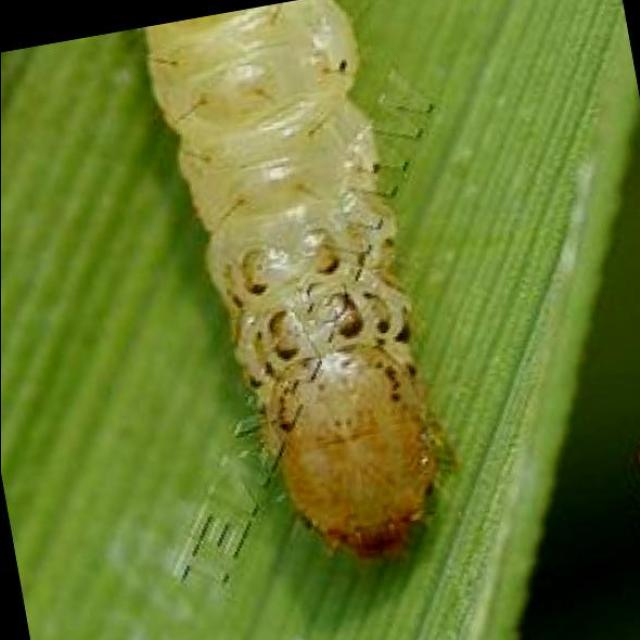leaf folder: (144, 0, 448, 556)
